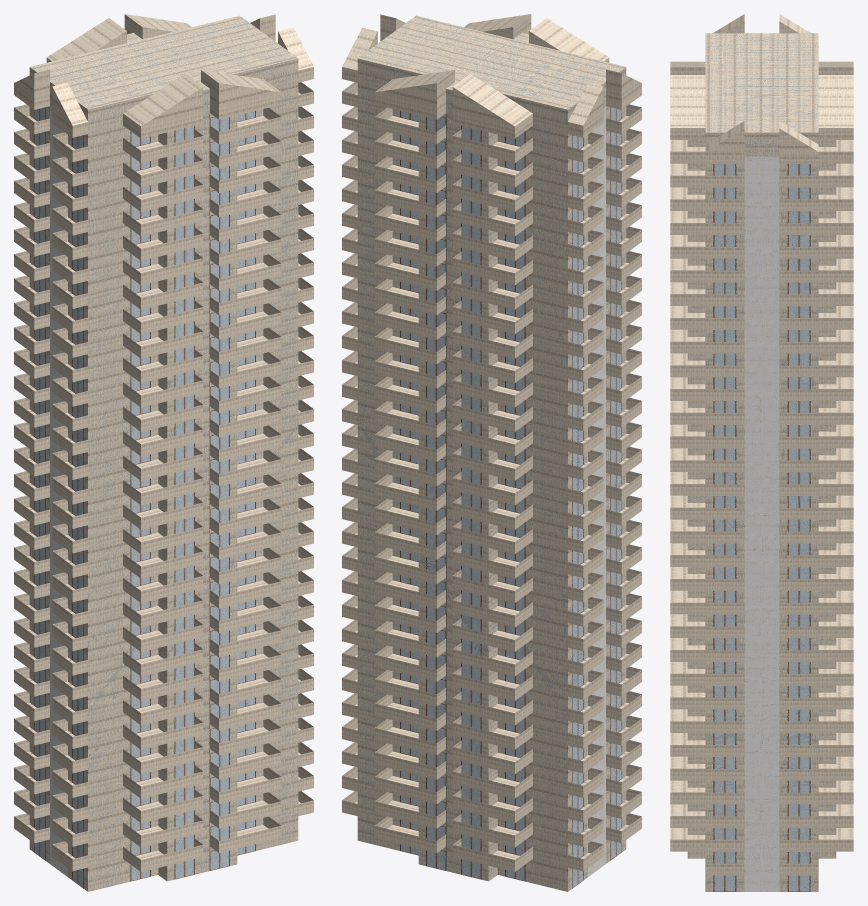
The picture shows the model from 3 angles, left to right: view 1: azimuth 30°, elevation 25°; view 2: azimuth 150°, elevation 25°; view 3: azimuth 270°, elevation 25°; orthographic projection. The views are drawn at different scales.
Parts seen in each view (by area): view 1: group_0 (×133); view 2: group_0 (×133); view 3: group_0 (×129).
Boxes of the visible parts, x1,y1,x2,y2 form: group_0 (×133): (14,14,313,891); group_0 (×133): (342,14,641,891); group_0 (×129): (670,33,853,891).
Size of the model in its own units: 1220 by 827 by 3839.
